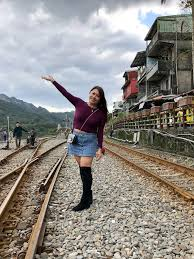people: (64, 86, 107, 210), (13, 122, 22, 149)
